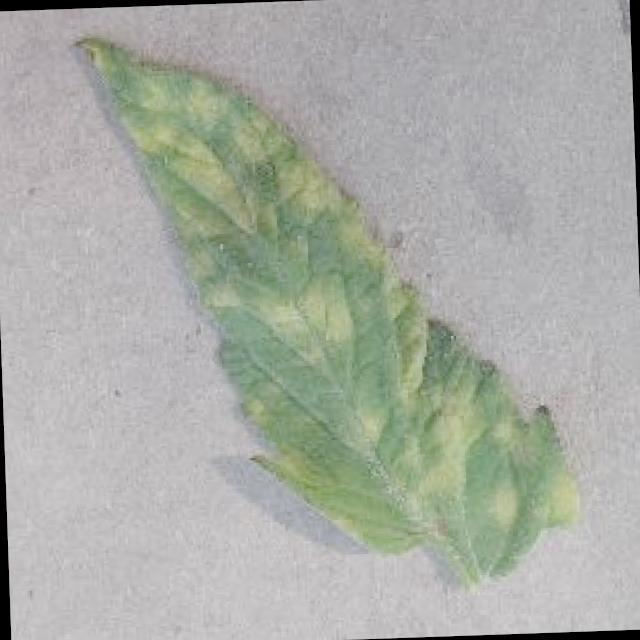Tomato healthy leaf: (75, 20, 582, 602)
